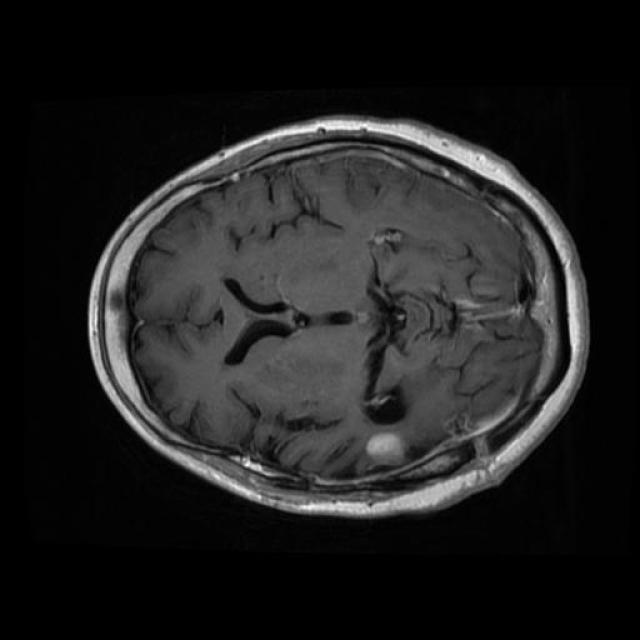Glioma: (304, 416, 506, 491)
